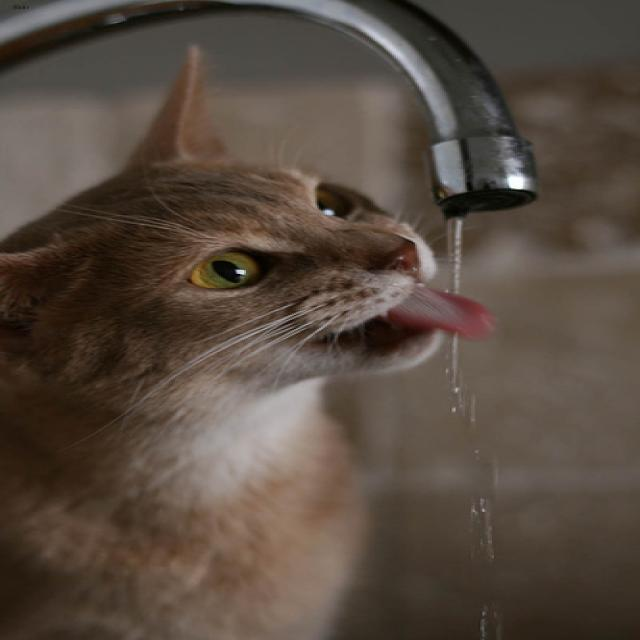Abyssinian: (0, 42, 492, 387)
